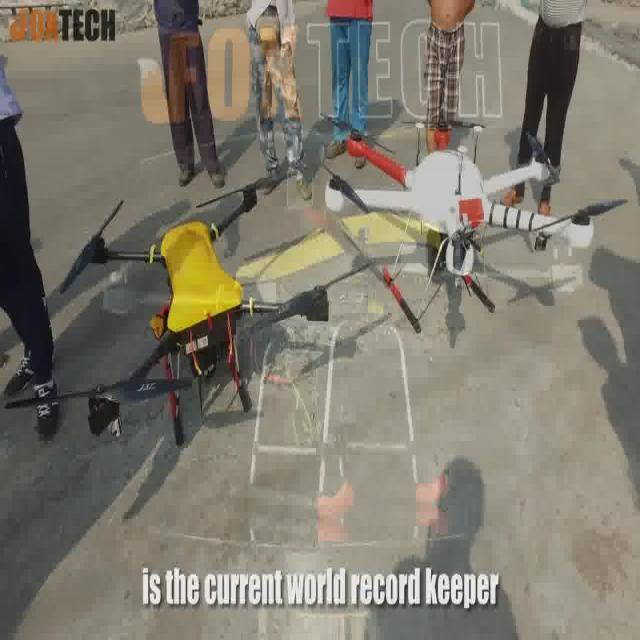drone: (56, 177, 334, 440), (336, 122, 614, 330)
